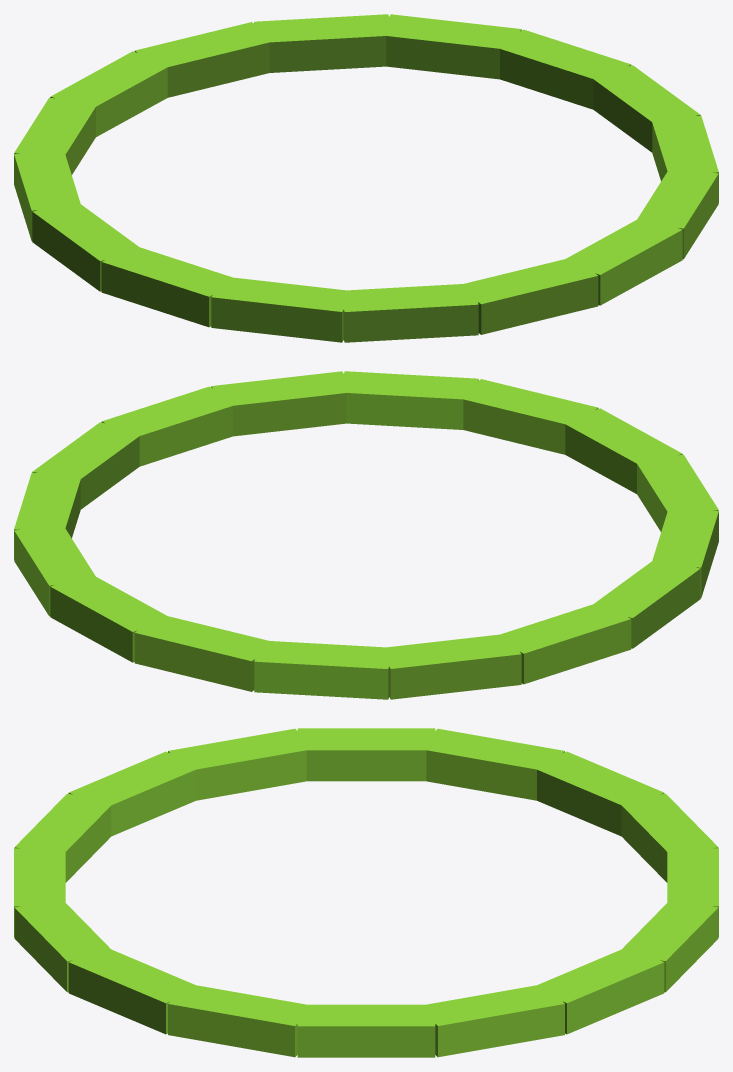
The model's file is Tell_TKGlow.glb.
3 renders of one model, top to bottom at view 1: azimuth 30°, elevation 25°; view 2: azimuth 150°, elevation 25°; view 3: azimuth 270°, elevation 25°, orthographic.
Visible parts, largest first — view 1: Tell_TKGlow; view 2: Tell_TKGlow; view 3: Tell_TKGlow.
Part boxes in pixels (x1,y1,x2,y2): Tell_TKGlow: [14, 14, 718, 342]; Tell_TKGlow: [14, 371, 718, 699]; Tell_TKGlow: [14, 728, 718, 1057].
Size of the model in its own units: 41 by 2 by 41.
Materials: 1 (1 with a texture image).
